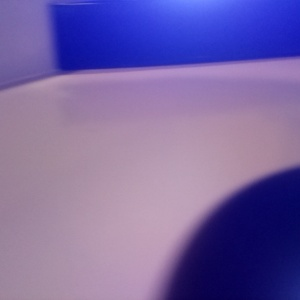alive_ball: (1, 23, 67, 99), (109, 18, 142, 55)
dead_ball: (74, 19, 108, 55)
